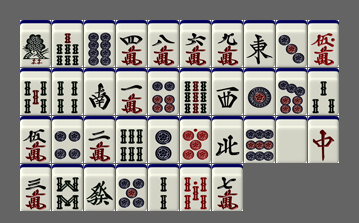0m: (308, 20, 339, 67)
0p: (180, 116, 211, 163)
0s: (180, 164, 211, 211)
1m: (116, 68, 147, 115)
1p: (244, 68, 275, 115)
1s: (20, 20, 51, 67)
1z: (244, 20, 275, 67)
2m: (84, 116, 115, 163)
2p: (148, 116, 179, 163)
2s: (148, 164, 179, 211)
2z: (84, 68, 115, 115)
3m: (20, 164, 51, 211)
3p: (276, 20, 307, 67)
3s: (308, 68, 339, 115)
3z: (212, 68, 243, 115)
4m: (116, 20, 147, 67)
4p: (52, 116, 83, 163)
4s: (52, 68, 83, 115)
4z: (212, 116, 243, 163)
5m: (20, 116, 51, 163)
5p: (116, 164, 147, 211)
5s: (20, 68, 51, 115)
5z: (276, 116, 307, 163)
6m: (180, 20, 211, 67)
6p: (148, 68, 179, 115)
6s: (116, 116, 147, 163)
6z: (84, 164, 115, 211)
7m: (212, 164, 243, 211)
7p: (276, 68, 307, 115)
7s: (52, 20, 83, 67)
7z: (308, 116, 339, 163)
8m: (148, 20, 179, 67)
8p: (84, 20, 115, 67)
8s: (52, 164, 83, 211)
9m: (212, 20, 243, 67)
9p: (244, 116, 275, 163)
9s: (180, 68, 211, 115)
